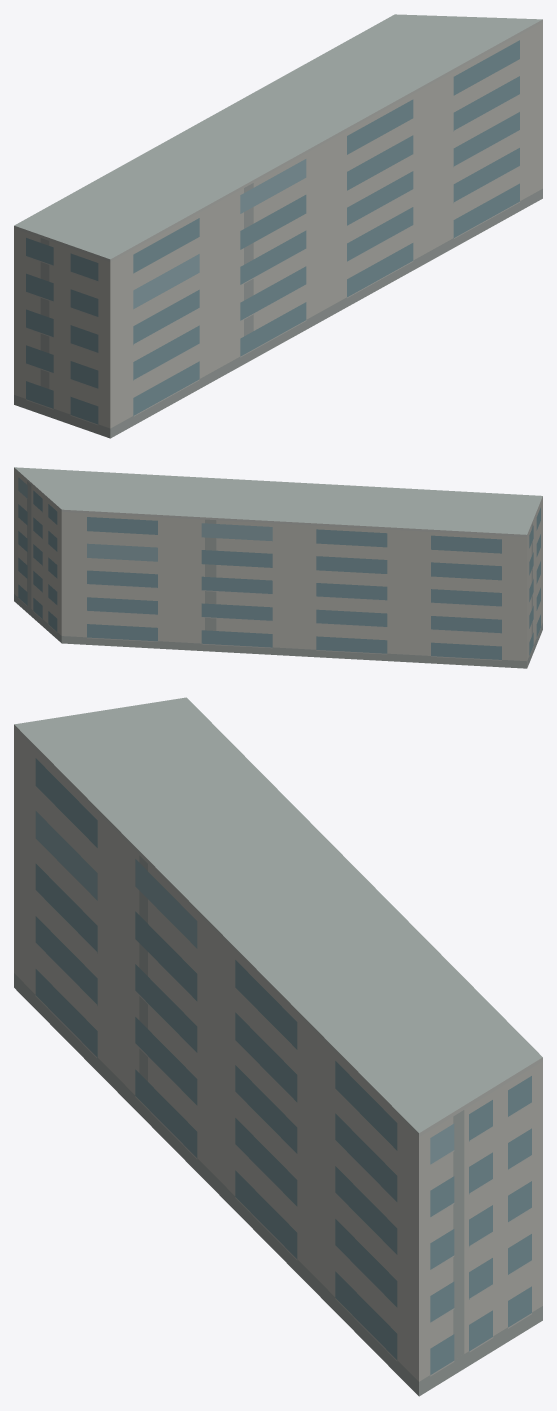
The model's file is residential-dc428201-a8a1-4ab5-82a6-bdf83caddf52.glb.
3 renders of one model, top to bottom at view 1: azimuth 30°, elevation 25°; view 2: azimuth 150°, elevation 25°; view 3: azimuth 270°, elevation 25°, orthographic. The views are drawn at different scales.
Visible parts, largest first — view 1: residential-dc428201-a8a1-4ab5-82a6-bdf83caddf52.tmp; view 2: residential-dc428201-a8a1-4ab5-82a6-bdf83caddf52.tmp; view 3: residential-dc428201-a8a1-4ab5-82a6-bdf83caddf52.tmp.
Part boxes in pixels (<box>): residential-dc428201-a8a1-4ab5-82a6-bdf83caddf52.tmp: <box>14,14,542,438</box>; residential-dc428201-a8a1-4ab5-82a6-bdf83caddf52.tmp: <box>14,467,542,668</box>; residential-dc428201-a8a1-4ab5-82a6-bdf83caddf52.tmp: <box>14,697,542,1396</box>.
Bounding box in the file's own units: 54.16 × 15.25 × 27.77.
